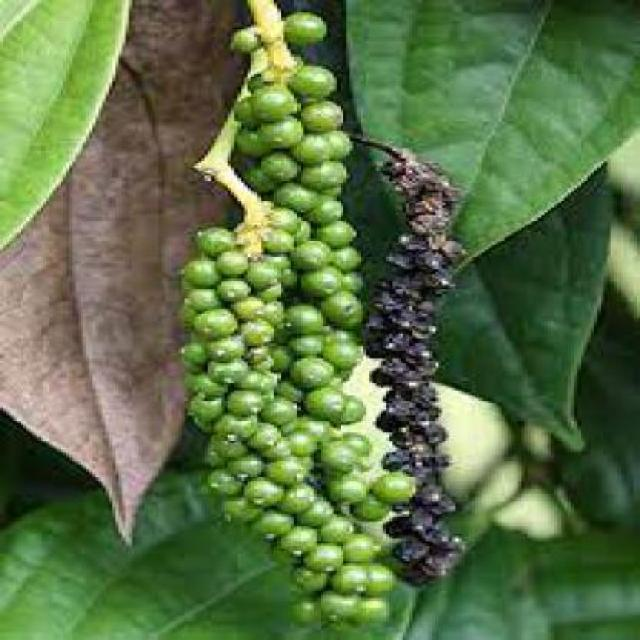UNRIPE: (142, 210, 346, 636), (251, 16, 406, 510)
